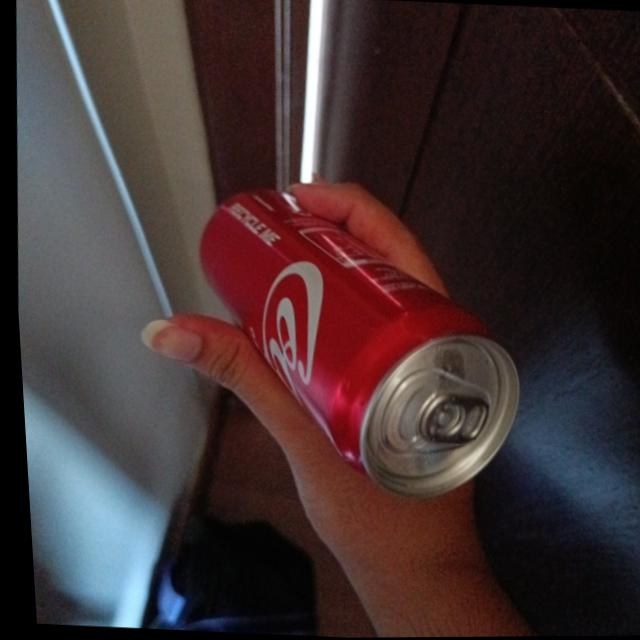coke: (182, 186, 528, 506)
